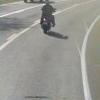Motorcycle: (35, 2, 60, 35)
